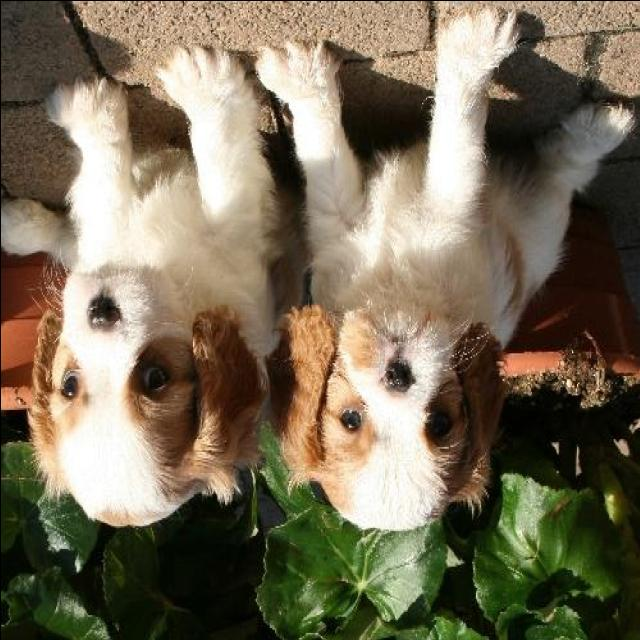blenheim_spaniel: (256, 9, 635, 528), (1, 41, 307, 526)
